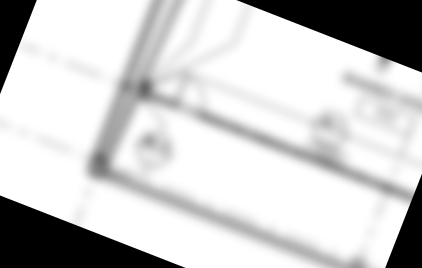door: (172, 72, 214, 117)
